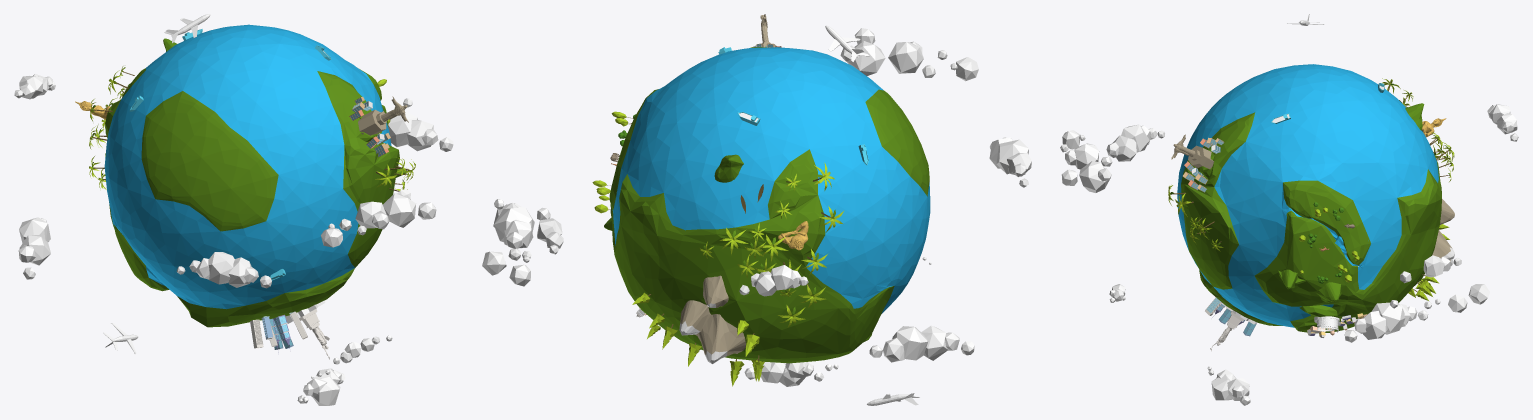
File: Globe_Scene_original.obj
3 renders of one model, left to right at view 1: azimuth 30°, elevation 25°; view 2: azimuth 150°, elevation 25°; view 3: azimuth 270°, elevation 25°, orthographic. The views are drawn at different scales.
Parts seen in each view (by area): view 1: Sphere, Sphere:2_4, Sphere:3_5, Sphere:3_6, Sphere:2_7, Sphere:4_4, Sphere:3, Sphere:2, Sphere:3_4, Cylinder, Sphere:2_6, Plane.1; view 2: Sphere, Mount.4, Sphere:4_4, Mount.3, Sphere:3, Sphere:2_4, Sphere:3_6, Mount.5, Sphere:2, Mount, Sphere:3_5, Buddha.1 (+1 smaller); view 3: Sphere, Sphere:2_4, Sphere:3_6, Sphere:2_7, Sphere:4_4, Sphere:2_6, Sphere:3_5.
Part boxes in pixels (x1=…): Sphere: x1=104, y1=24, x2=399, y2=327; Sphere:2_4: x1=383, y1=193, x2=415, y2=227; Sphere:3_5: x1=208, y1=252, x2=234, y2=284; Sphere:3_6: x1=388, y1=111, x2=417, y2=146; Sphere:2_7: x1=407, y1=120, x2=433, y2=151; Sphere:4_4: x1=355, y1=201, x2=386, y2=228; Sphere:3: x1=19, y1=217, x2=50, y2=243; Sphere:2: x1=19, y1=235, x2=50, y2=265; Sphere:3_4: x1=312, y1=376, x2=340, y2=405; Cylinder: x1=358, y1=109, x2=388, y2=135; Sphere:2_6: x1=228, y1=257, x2=251, y2=287; Plane.1: x1=164, y1=14, x2=210, y2=43; Sphere: x1=609, y1=47, x2=930, y2=363; Mount.4: x1=698, y1=314, x2=745, y2=363; Sphere:4_4: x1=888, y1=42, x2=923, y2=73; Mount.3: x1=679, y1=300, x2=710, y2=336; Sphere:3: x1=892, y1=326, x2=928, y2=360; Sphere:2_4: x1=847, y1=41, x2=885, y2=75; Sphere:3_6: x1=494, y1=207, x2=534, y2=242; Mount.5: x1=703, y1=275, x2=728, y2=307; Sphere:2: x1=921, y1=325, x2=948, y2=360; Mount: x1=714, y1=154, x2=743, y2=182; Sphere:3_5: x1=996, y1=139, x2=1028, y2=174; Buddha.1: x1=778, y1=221, x2=808, y2=250; Sphere: x1=1177, y1=64, x2=1441, y2=333; Sphere:2_4: x1=1079, y1=160, x2=1109, y2=192; Sphere:3_6: x1=1371, y1=302, x2=1405, y2=334; Sphere:2_7: x1=1362, y1=311, x2=1387, y2=339; Sphere:4_4: x1=1074, y1=143, x2=1099, y2=169; Sphere:2_6: x1=1113, y1=135, x2=1136, y2=161; Sphere:3_5: x1=1121, y1=124, x2=1149, y2=152.
Bounding box in the file's own units: 62026 × 51967 × 62559.
